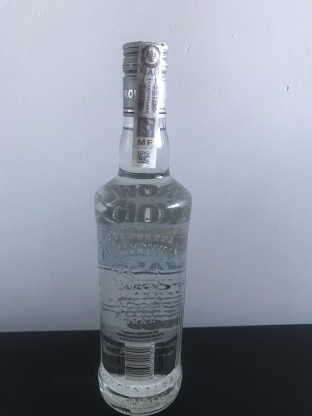nakretka: (119, 38, 170, 121)
